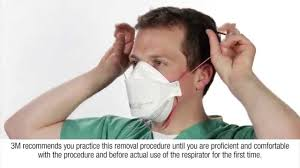masked: (113, 7, 219, 124)
